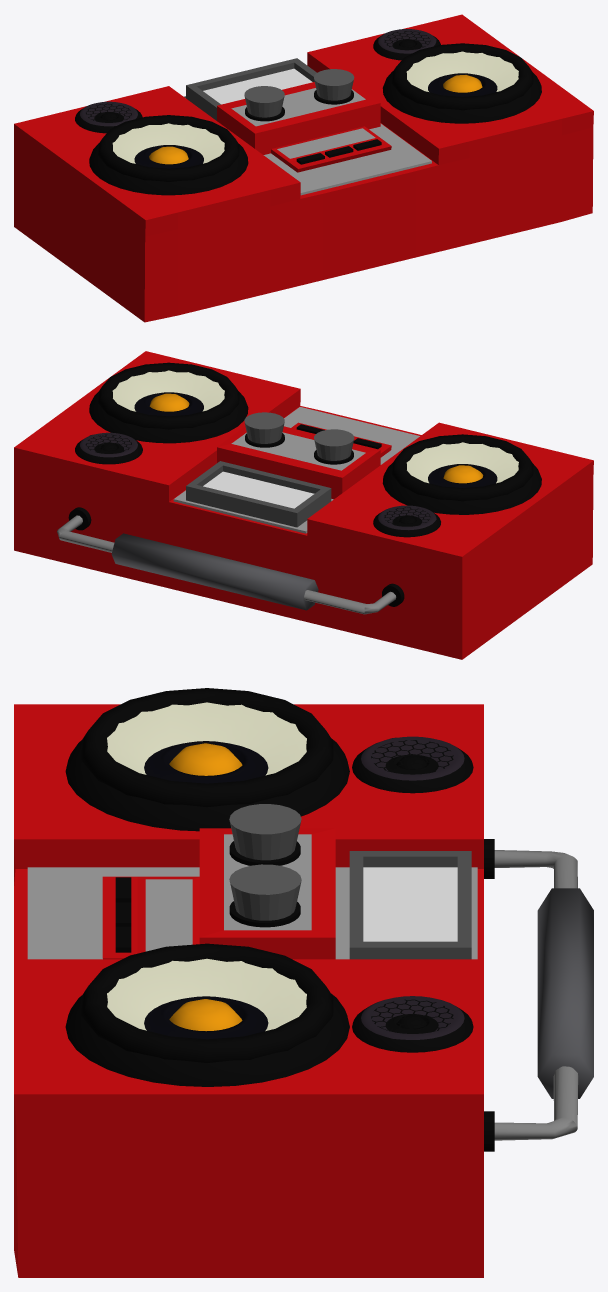
The model's file is Radio_low.fbx.
3 renders of one model, top to bottom at view 1: azimuth 30°, elevation 25°; view 2: azimuth 150°, elevation 25°; view 3: azimuth 270°, elevation 25°, orthographic. The views are drawn at different scales.
Visible parts, largest first — view 1: Boombox_low, SpeakerCone_low, SpeakerConePadding_low, KnobBox_low, MetallPlate_low, ScreenSignal_low, SpeakerTweeter_low, ButtonWheel_low, SpeakerConeCap_low, Tweeter_Grid_low, Buttons_low, Bracket_low; view 2: Boombox_low, SpeakerCone_low, SpeakerConePadding_low, Handle_Padding_low, ScreenSignal_low, KnobBox_low, SpeakerTweeter_low, MetallPlate_low, ButtonWheel_low, Handlebar_low, SpeakerConeCap_low, Tweeter_Grid_low (+2 smaller); view 3: Boombox_low, SpeakerCone_low, SpeakerConePadding_low, ScreenSignal_low, KnobBox_low, Handle_Padding_low, MetallPlate_low, SpeakerTweeter_low, ButtonWheel_low, Handlebar_low, SpeakerConeCap_low, Tweeter_Grid_low (+3 smaller).
Boxes of the visible parts, x1,y1,x2,y2 form: Boombox_low: [14, 14, 593, 322]; SpeakerCone_low: [89, 51, 541, 195]; SpeakerConePadding_low: [98, 43, 533, 181]; KnobBox_low: [217, 82, 380, 154]; MetallPlate_low: [263, 123, 431, 195]; ScreenSignal_low: [186, 58, 316, 120]; SpeakerTweeter_low: [75, 29, 440, 133]; ButtonWheel_low: [244, 69, 354, 117]; SpeakerConeCap_low: [149, 75, 482, 164]; Tweeter_Grid_low: [86, 31, 430, 122]; Buttons_low: [296, 139, 381, 164]; Bracket_low: [245, 90, 353, 121]; Boombox_low: [14, 351, 593, 659]; SpeakerCone_low: [89, 370, 541, 514]; SpeakerConePadding_low: [98, 362, 533, 501]; Handle_Padding_low: [111, 533, 318, 610]; ScreenSignal_low: [186, 461, 331, 527]; KnobBox_low: [217, 426, 380, 499]; SpeakerTweeter_low: [75, 432, 440, 537]; MetallPlate_low: [173, 407, 419, 533]; ButtonWheel_low: [244, 412, 354, 460]; Handlebar_low: [57, 515, 396, 614]; SpeakerConeCap_low: [149, 393, 483, 483]; Tweeter_Grid_low: [85, 434, 430, 526]; Boombox_low: [14, 704, 483, 1277]; SpeakerCone_low: [65, 702, 349, 1086]; SpeakerConePadding_low: [81, 688, 333, 1062]; ScreenSignal_low: [349, 851, 471, 959]; KnobBox_low: [199, 828, 335, 959]; Handle_Padding_low: [537, 888, 593, 1098]; MetallPlate_low: [27, 867, 477, 959]; SpeakerTweeter_low: [352, 736, 473, 1052]; ButtonWheel_low: [229, 804, 301, 920]; Handlebar_low: [494, 850, 578, 1140]; SpeakerConeCap_low: [169, 743, 242, 1031]; Tweeter_Grid_low: [371, 740, 453, 1033].
Size of the model in its own units: 4.68 by 1.31 by 2.94.
